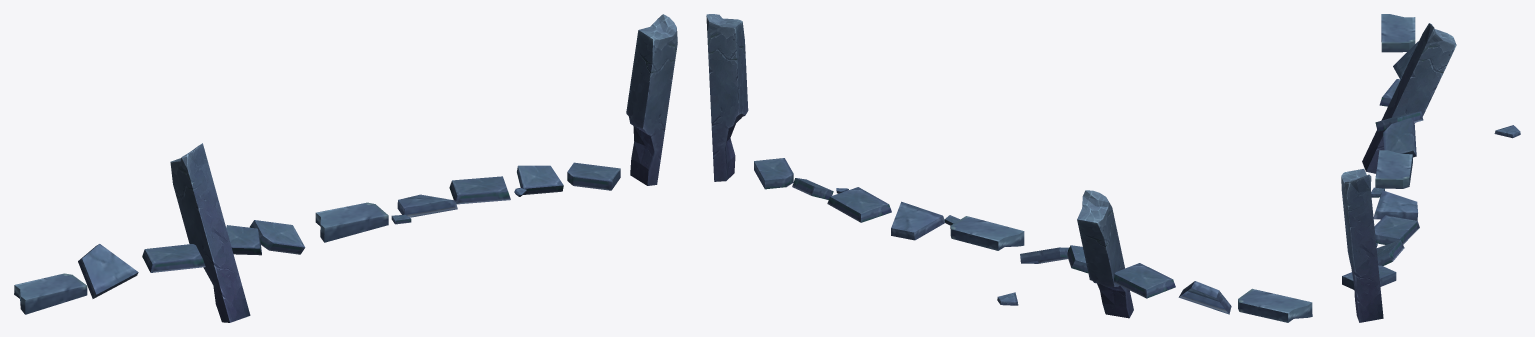
Rendered from Area13_18.fbx.
3 renders of one model, left to right at view 1: azimuth 30°, elevation 25°; view 2: azimuth 150°, elevation 25°; view 3: azimuth 270°, elevation 25°, orthographic. The views are drawn at different scales.
Parts seen in each view (by area): view 1: Area13_18; view 2: Area13_18; view 3: Area13_18.
Boxes of the visible parts, bbox=[...] form: Area13_18: bbox=[14, 14, 677, 322]; Area13_18: bbox=[706, 14, 1312, 322]; Area13_18: bbox=[1341, 14, 1520, 322].
Size of the model in its own units: 5469 by 1670 by 1431.
1 material, 1 textured.
